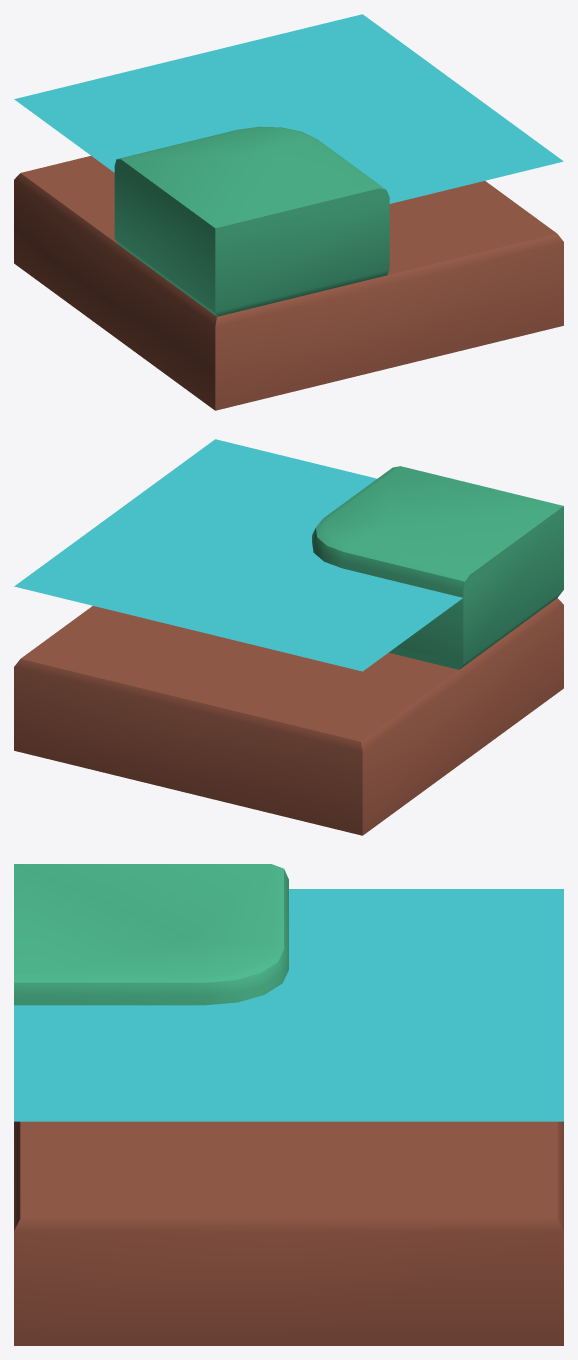
Rendered from square_forest_waterOuterCorner_noSides.glb.
3 renders of one model, top to bottom at view 1: azimuth 30°, elevation 25°; view 2: azimuth 150°, elevation 25°; view 3: azimuth 270°, elevation 25°, orthographic. The views are drawn at different scales.
Parts seen in each view (by area): view 1: square_forest_waterOuterCorner_noSides; view 2: square_forest_waterOuterCorner_noSides; view 3: square_forest_waterOuterCorner_noSides.
Boxes of the visible parts, <box> form: square_forest_waterOuterCorner_noSides: <box>14,14,563,410</box>; square_forest_waterOuterCorner_noSides: <box>14,439,563,835</box>; square_forest_waterOuterCorner_noSides: <box>14,864,563,1345</box>.
Size of the model in its own units: 2 by 1 by 2.
